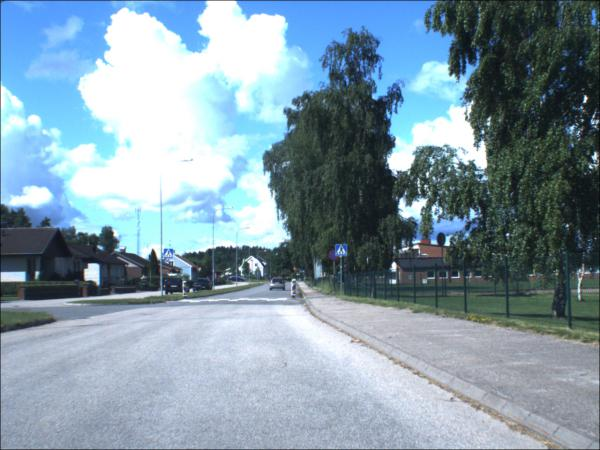NO_PARKING: (329, 251, 341, 262)
PEDESTRIAN_CROSSING: (337, 246, 349, 259), (165, 250, 175, 261)
